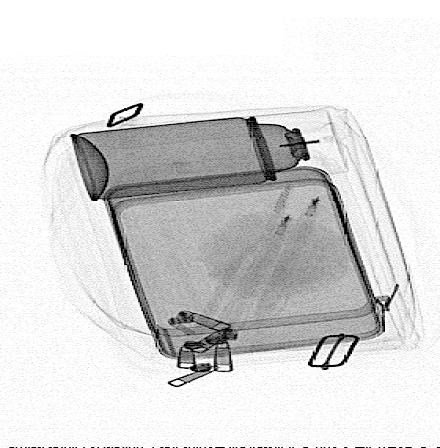Sprayer: (69, 106, 350, 203)
